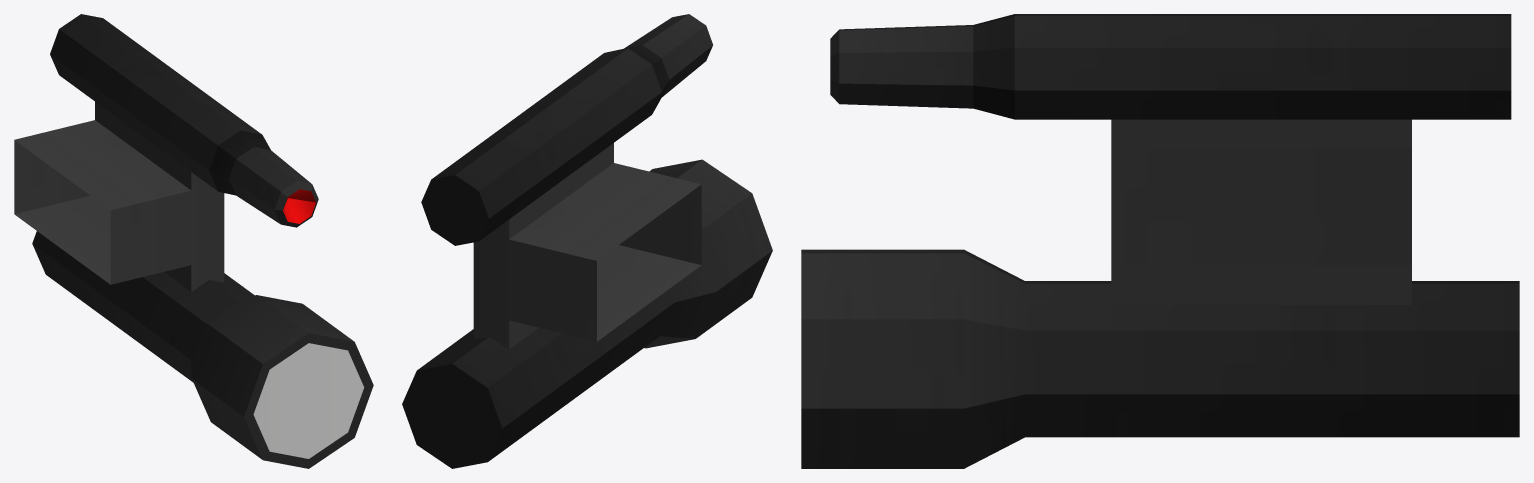
The model's file is LargeLaserCombo_mesh.fbx.
The picture shows the model from 3 angles, left to right: view 1: azimuth 30°, elevation 25°; view 2: azimuth 150°, elevation 25°; view 3: azimuth 270°, elevation 25°; orthographic projection. The views are drawn at different scales.
Parts seen in each view (by area): view 1: LargeLaserCombo_mesh; view 2: LargeLaserCombo_mesh; view 3: LargeLaserCombo_mesh.
Boxes of the visible parts, x1,y1,x2,y2 form: LargeLaserCombo_mesh: [14, 14, 373, 468]; LargeLaserCombo_mesh: [402, 14, 772, 468]; LargeLaserCombo_mesh: [801, 14, 1519, 468].
Bounding box in the file's own units: 3.47 × 5.84 × 8.46.
